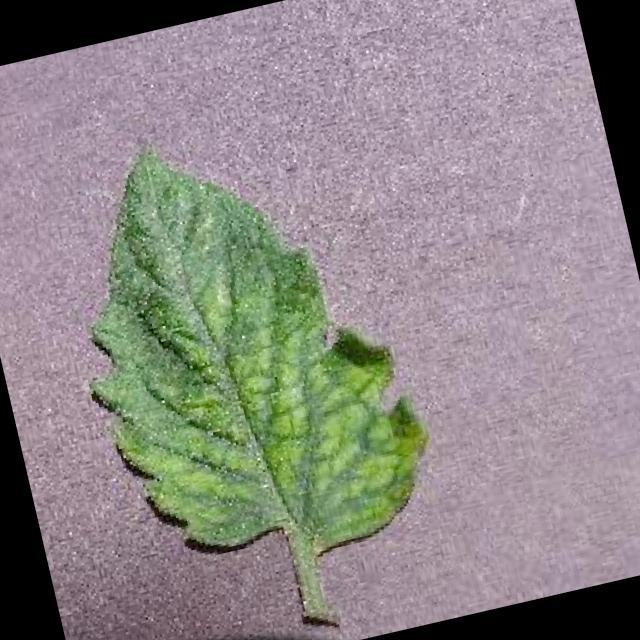Tomato mosaic virus leaf: (38, 83, 446, 594)
